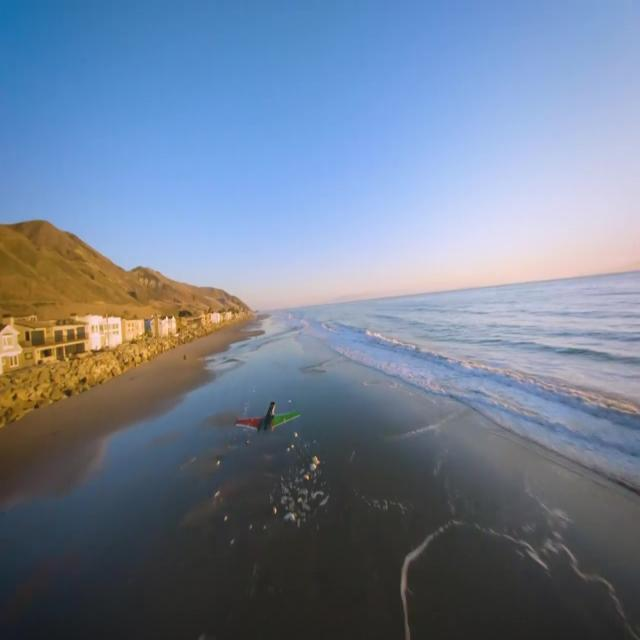iha: (259, 400, 263, 436)
